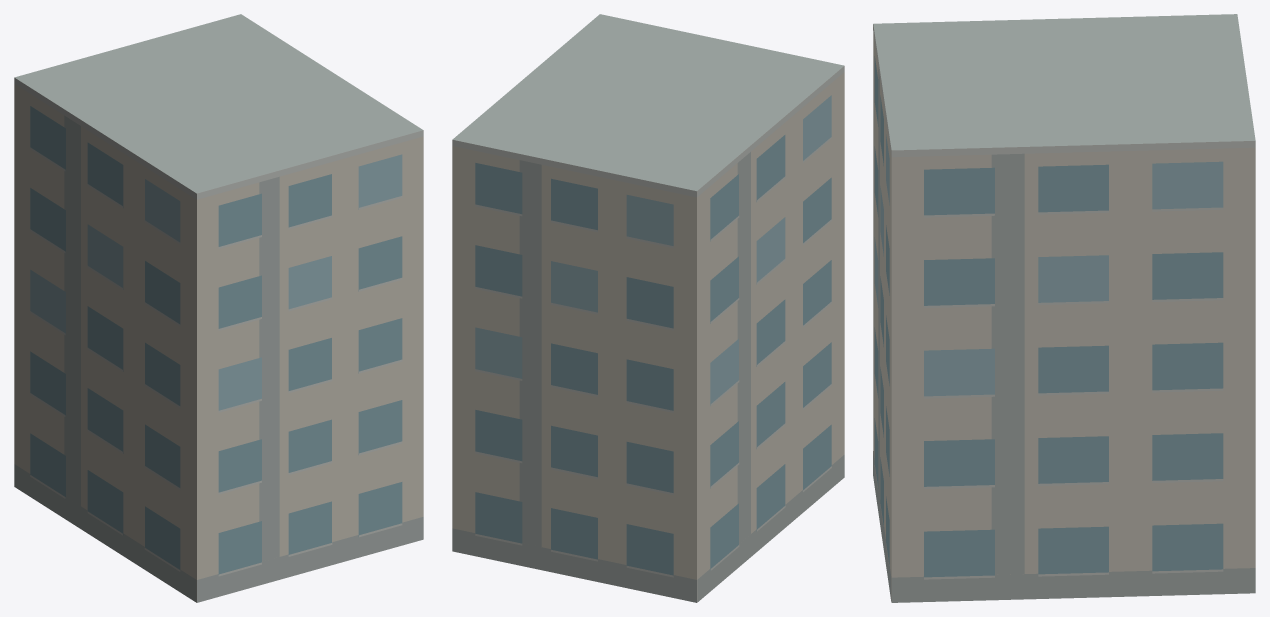
Rendered from survey-upis-32971678.glb.
3 views of the same model, side by side, from view 1: azimuth 30°, elevation 25°; view 2: azimuth 150°, elevation 25°; view 3: azimuth 270°, elevation 25° (orthographic). The views are drawn at different scales.
Parts seen in each view (by area): view 1: survey-upis-32971678.tmp; view 2: survey-upis-32971678.tmp; view 3: survey-upis-32971678.tmp.
Part boxes in pixels (bbox=[...]): survey-upis-32971678.tmp: bbox=[14, 14, 423, 602]; survey-upis-32971678.tmp: bbox=[452, 14, 844, 602]; survey-upis-32971678.tmp: bbox=[873, 14, 1255, 602].
Bounding box in the file's own units: 10.46 × 16.15 × 12.38.
